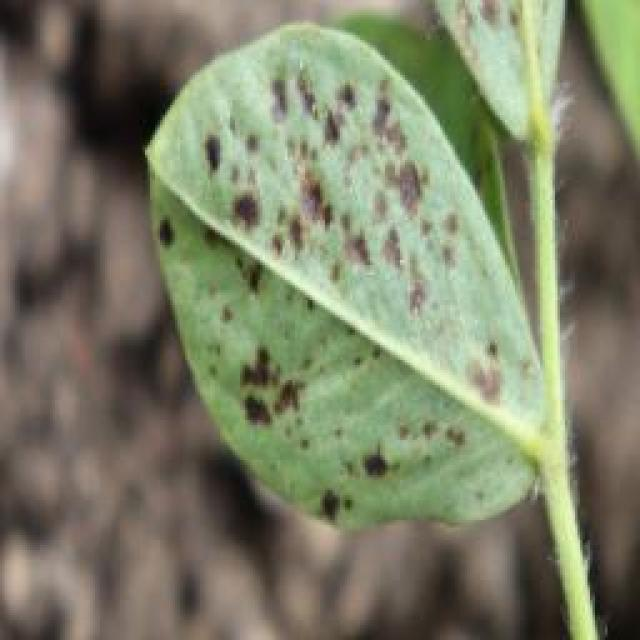Whitefly: (142, 29, 504, 548), (438, 0, 552, 132)
